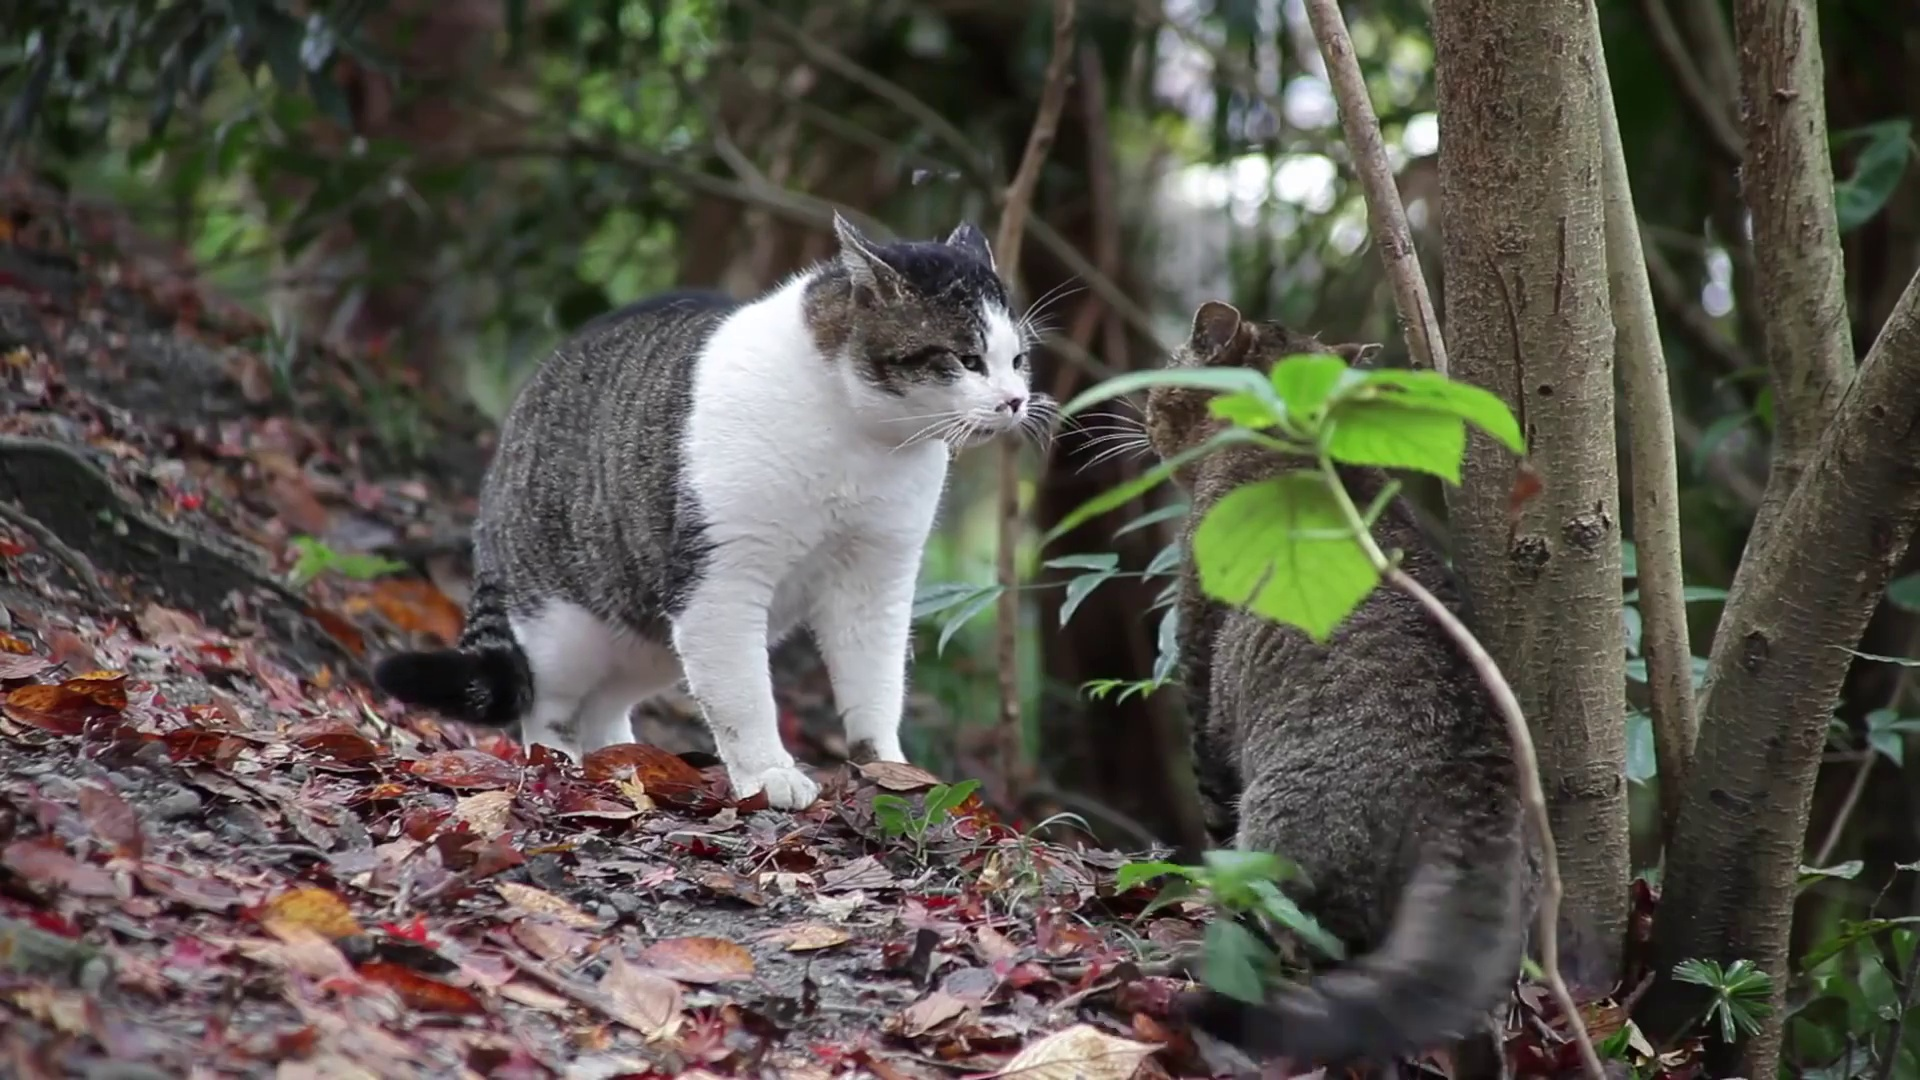black-white: (373, 207, 1030, 810)
pure black: (1143, 302, 1540, 1054)
